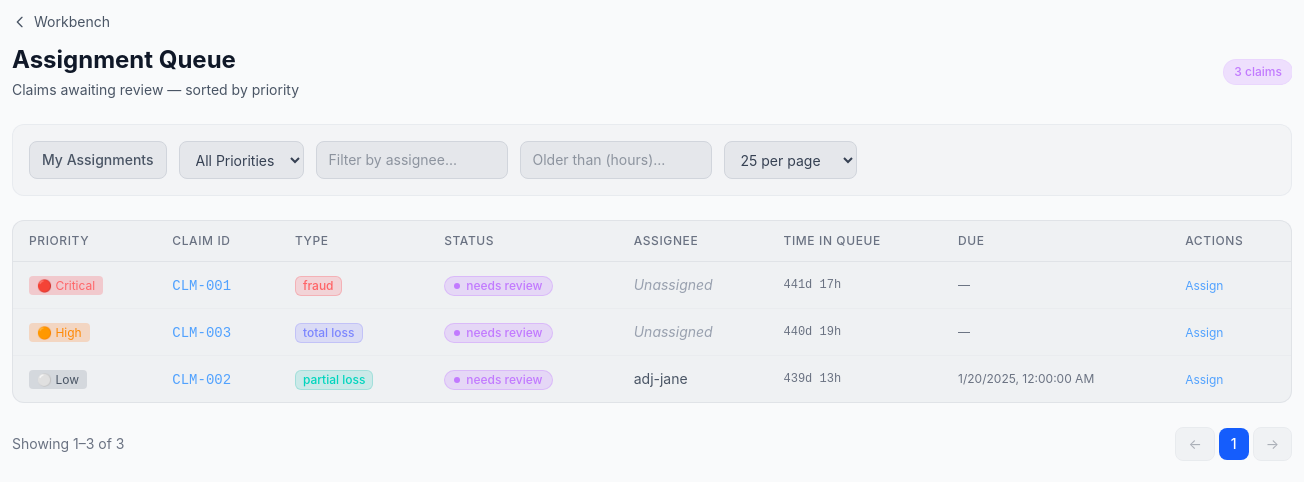
Test: AssignmentQueue › opens assign input when clicking assign
This screenshot has width=1304, height=482.
Click the button "Assign" in the row of "critical": (1204, 286) 1185,278 -> 1223,294
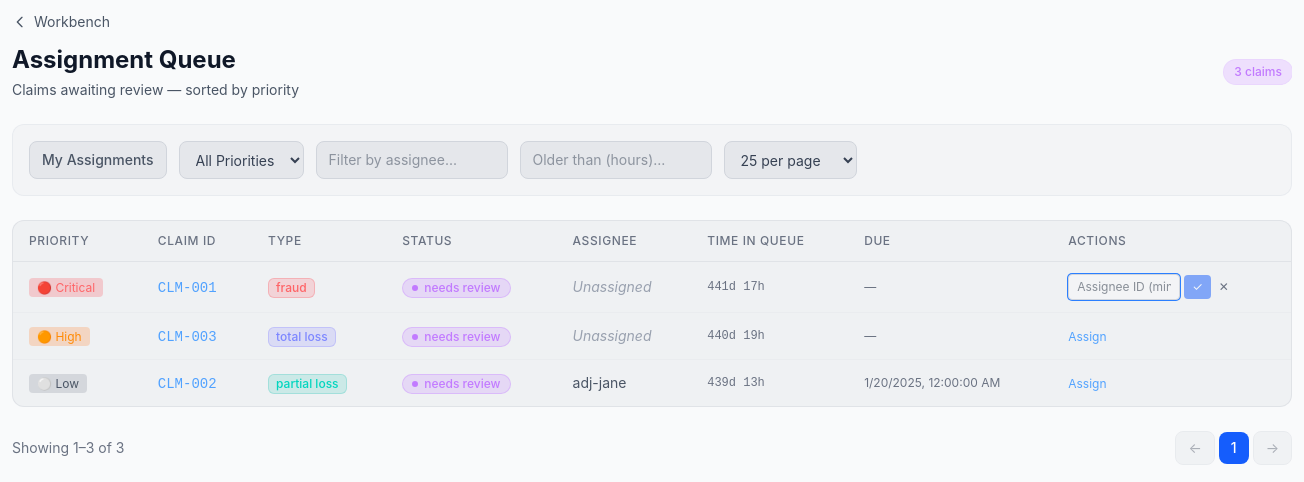
Result: the field with placeholder "Assignee ID (min 2 chars)" is shown at 1068,274 -> 1180,300
